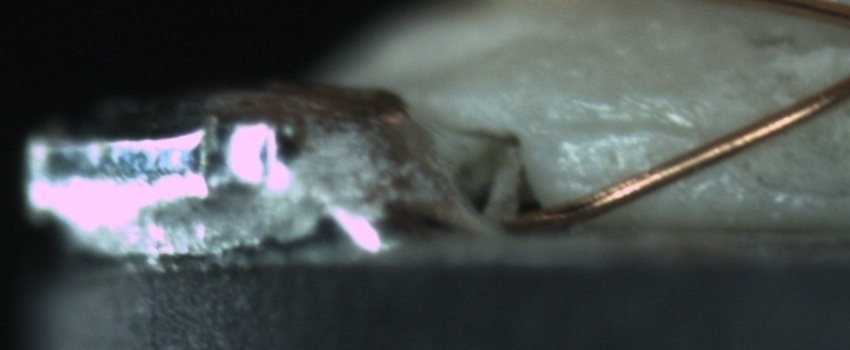DL: (557, 96, 706, 161)
